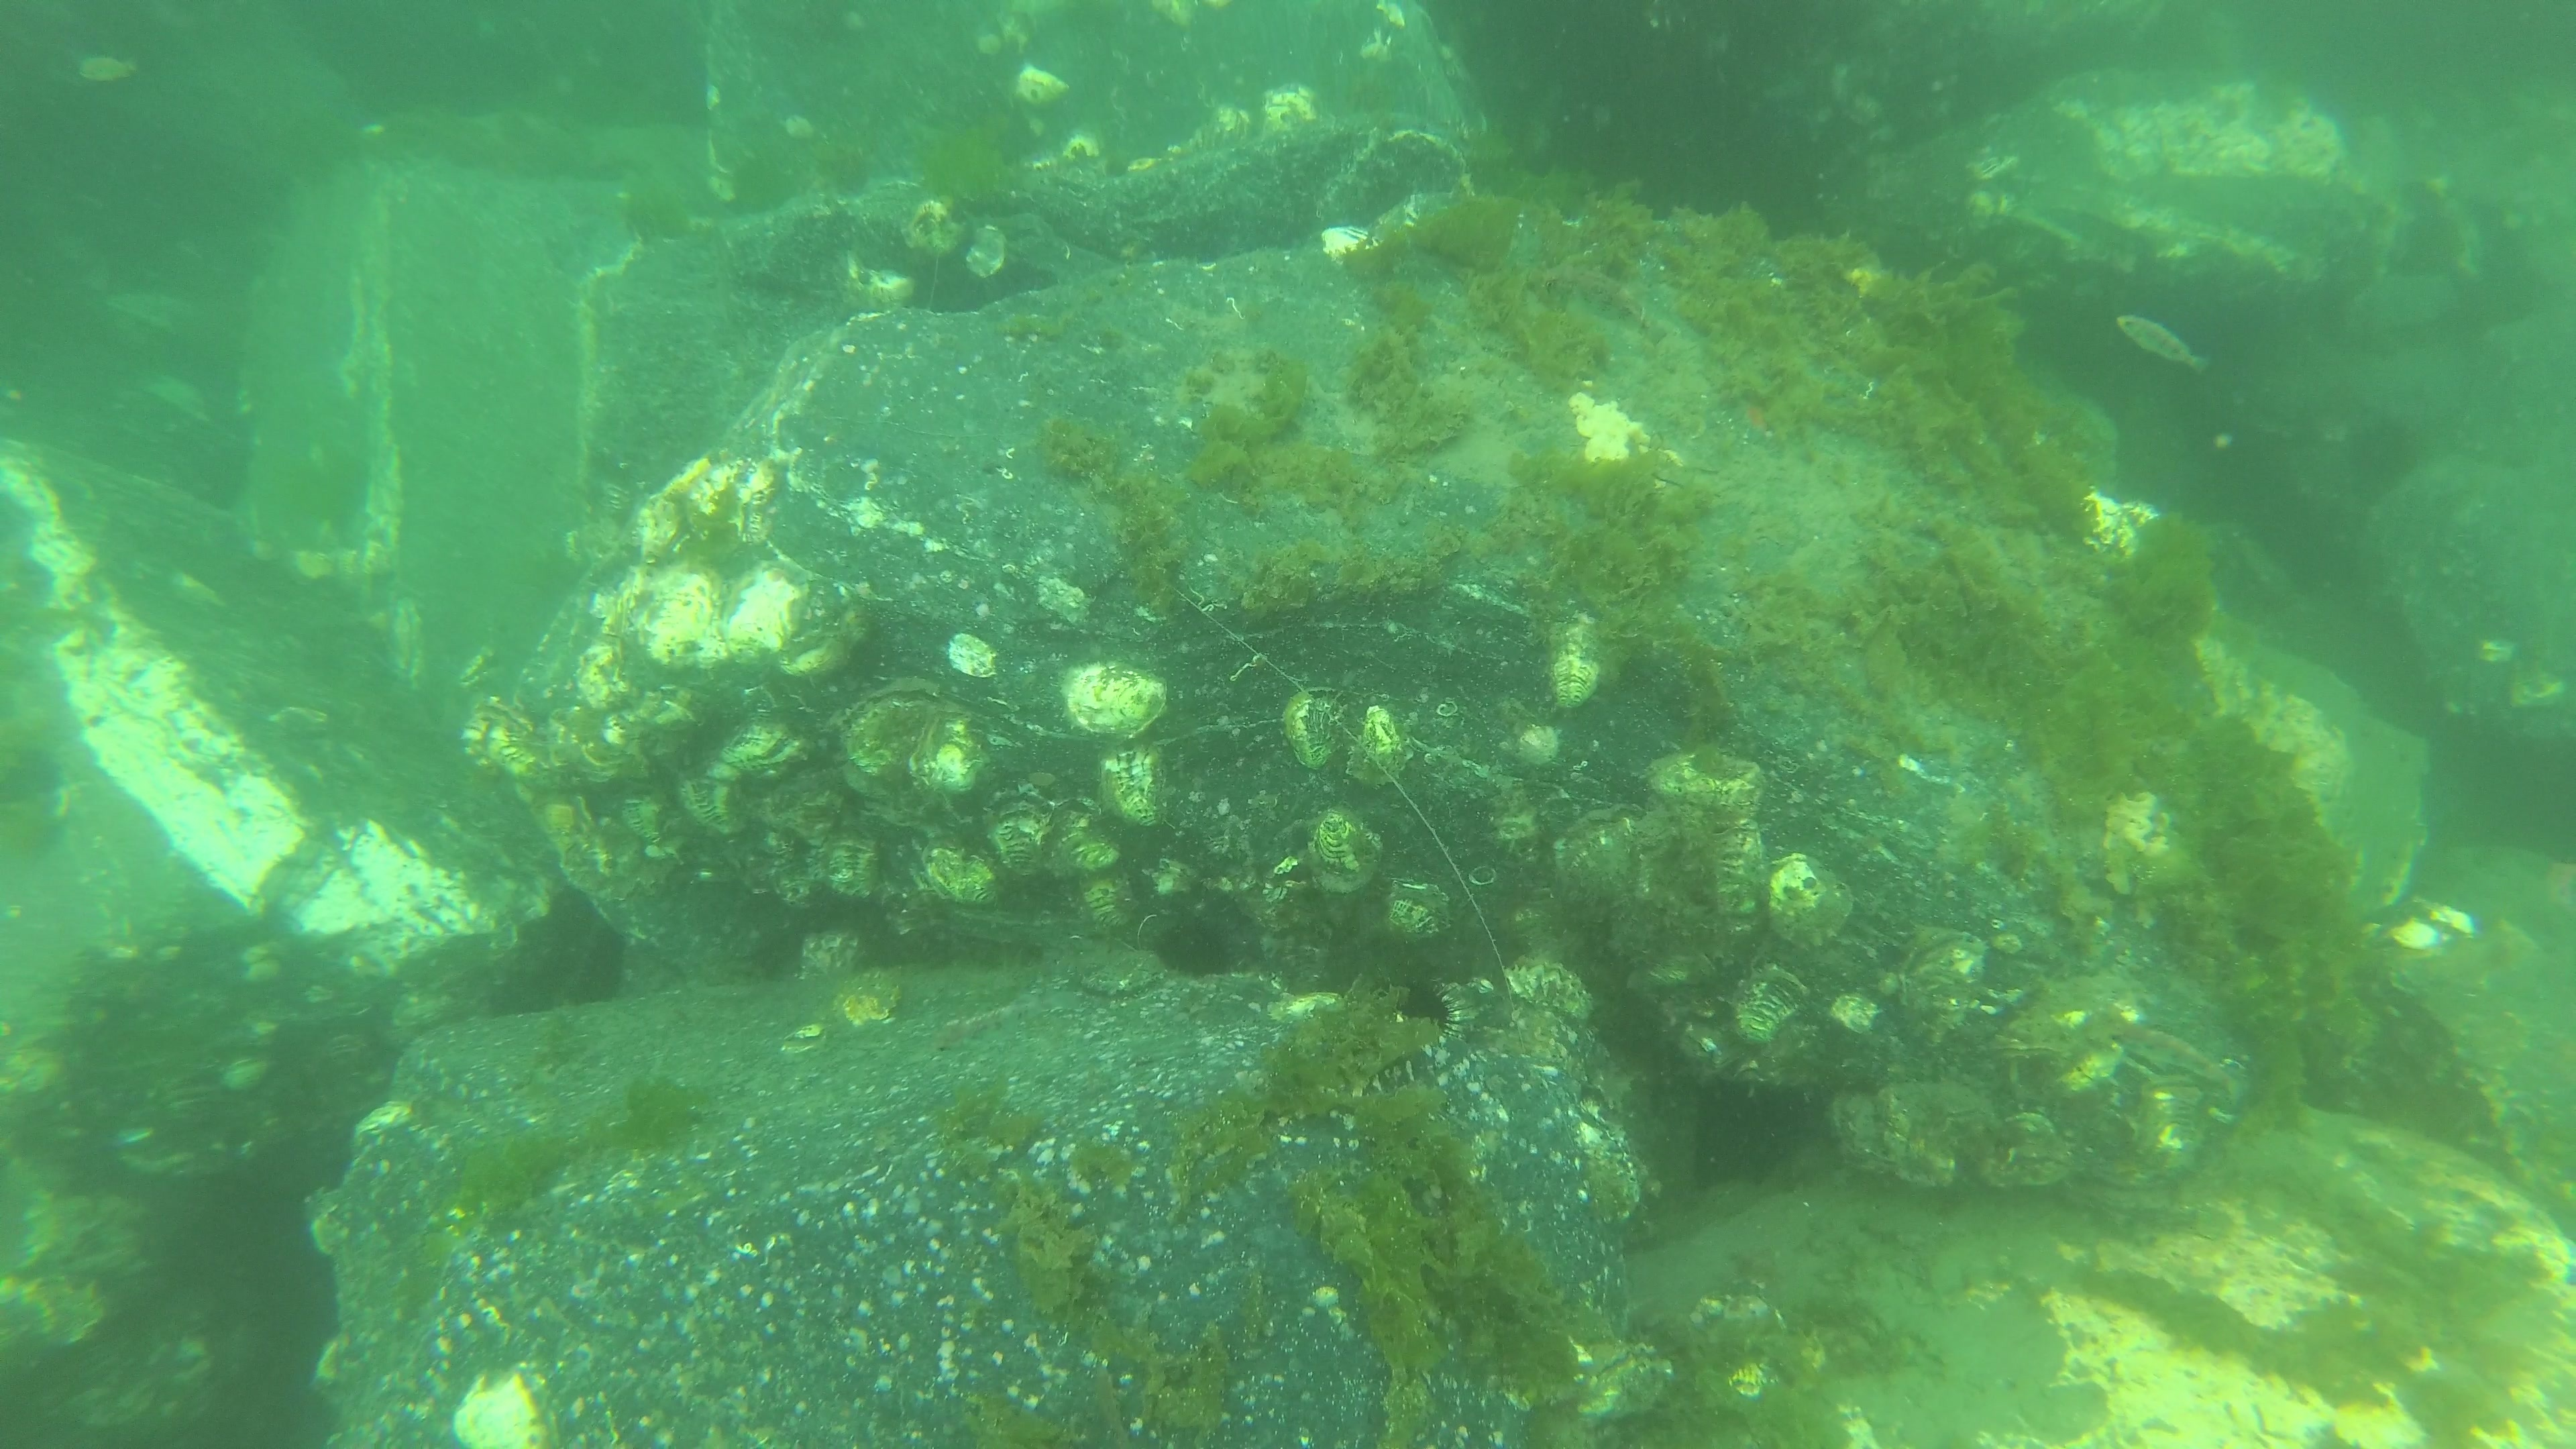echinus: (1375, 971, 1468, 1046), (1161, 916, 1244, 982), (2355, 418, 2422, 492)
